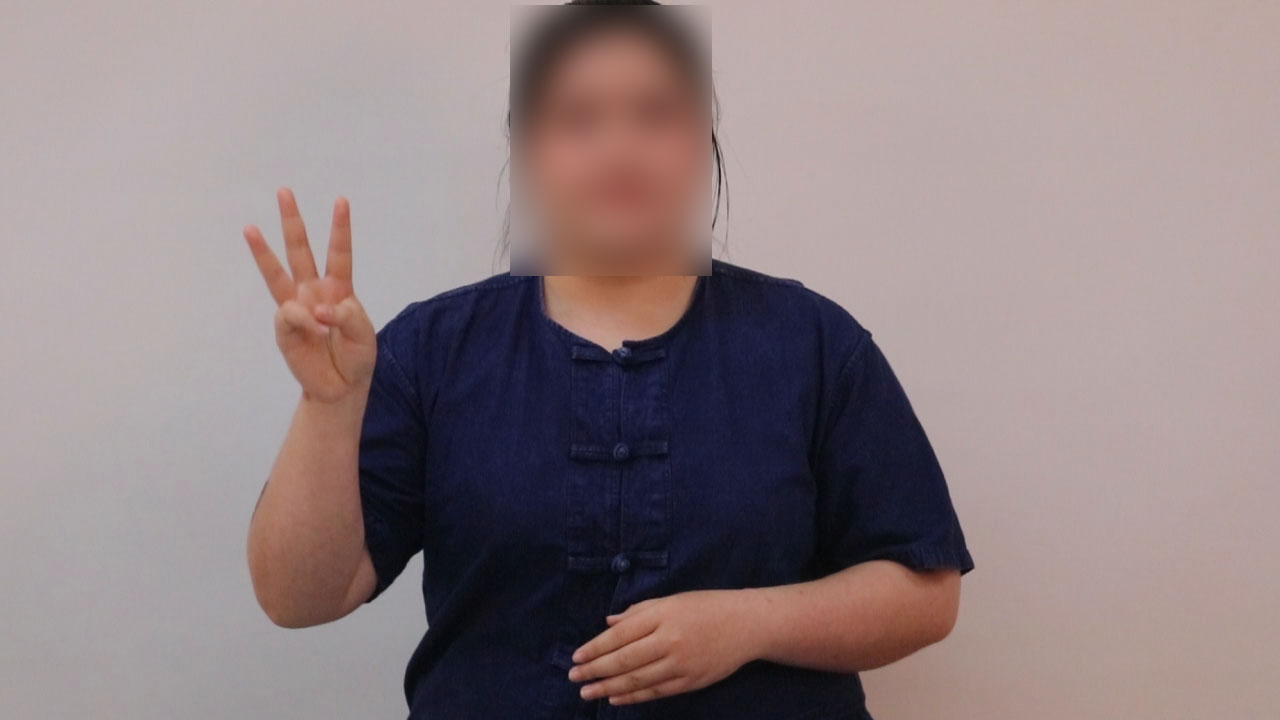wor: (236, 176, 381, 410)
